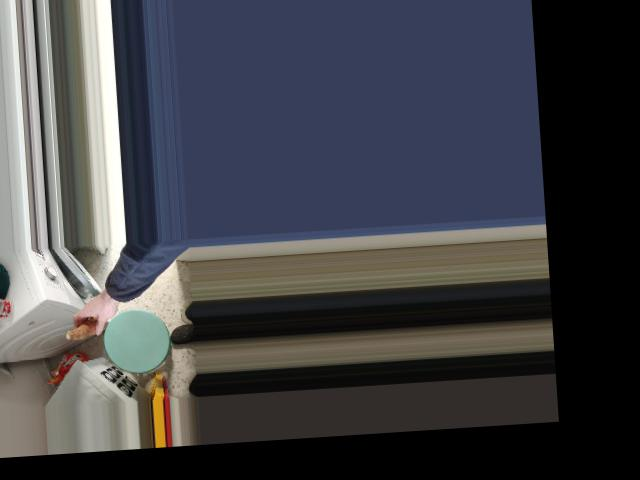sweet_potato: (65, 307, 119, 339)
